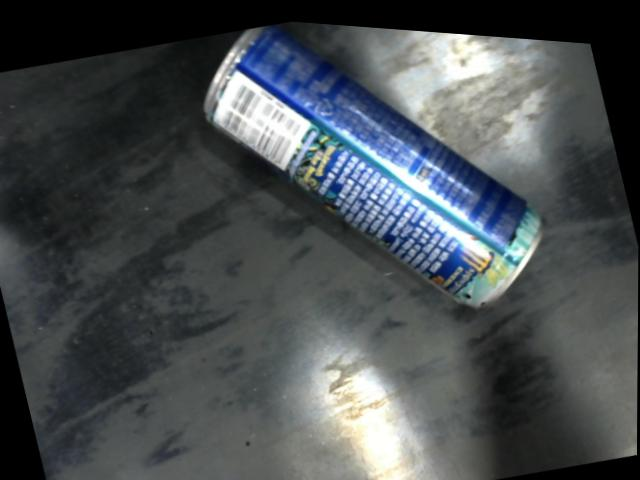can: (201, 19, 549, 303)
